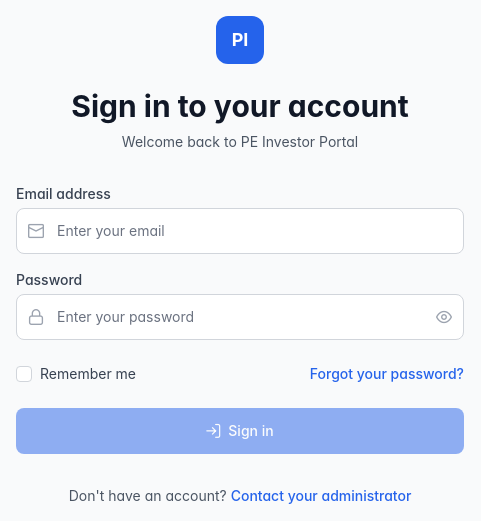
Test case: LoginView › Form Validation › should enable submit button when form is valid
Type "test@example.com" into the field with id "email".
click(240, 231); type("test@example.com")  # box [16,208,464,254]
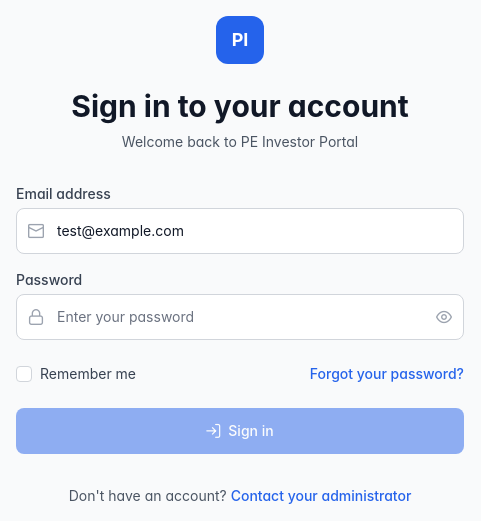
Type "password123" into the password field labelled "Password".
click(240, 317); type("password123")  # box [16,294,464,340]
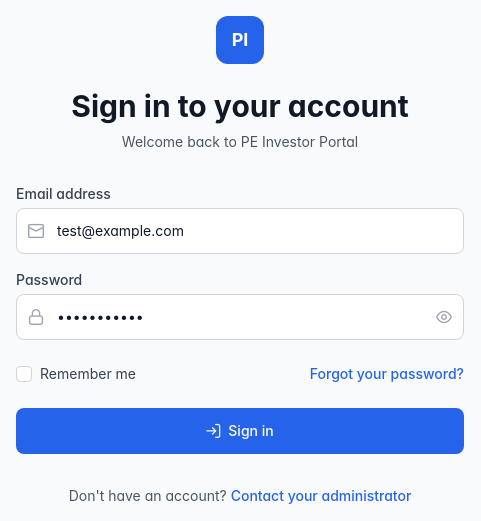
Result: the submit button is enabled at [16,408,464,454]
